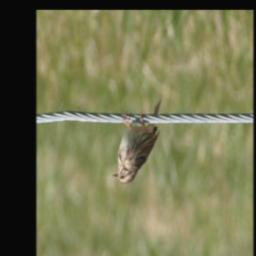Sparrow: (109, 97, 162, 187)
